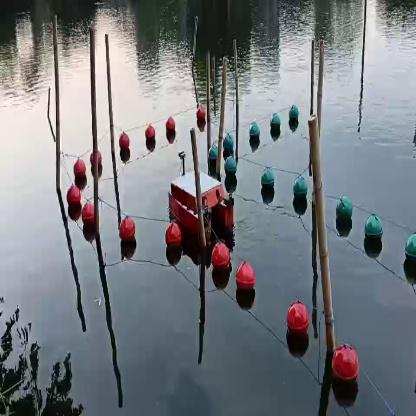green_buoy: (364, 215, 384, 248), (294, 172, 310, 206), (336, 197, 351, 232), (261, 165, 275, 197), (409, 227, 415, 281), (248, 124, 260, 148), (221, 132, 232, 157), (226, 155, 236, 181), (289, 104, 299, 128), (268, 113, 280, 133), (210, 147, 218, 170)
red_buoy: (329, 342, 360, 390), (286, 301, 308, 339), (236, 260, 254, 302), (212, 243, 230, 280), (165, 223, 182, 262), (84, 200, 96, 236), (120, 214, 134, 244), (119, 130, 131, 158), (143, 124, 154, 150), (68, 184, 80, 206), (196, 106, 205, 128), (167, 115, 174, 143), (76, 158, 84, 180)
